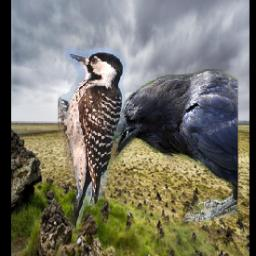Crow: (102, 69, 238, 222)
Woodpecker: (58, 48, 127, 234)
